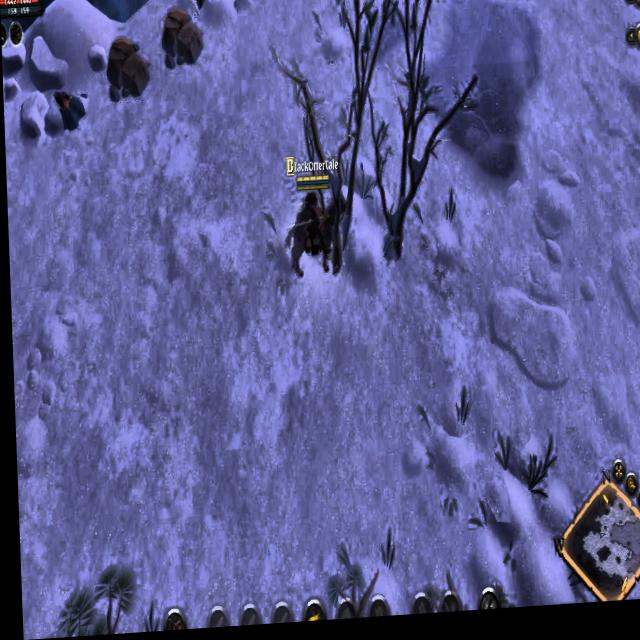copperore: (50, 85, 87, 135)
limestone: (104, 35, 151, 110), (157, 3, 203, 71)
